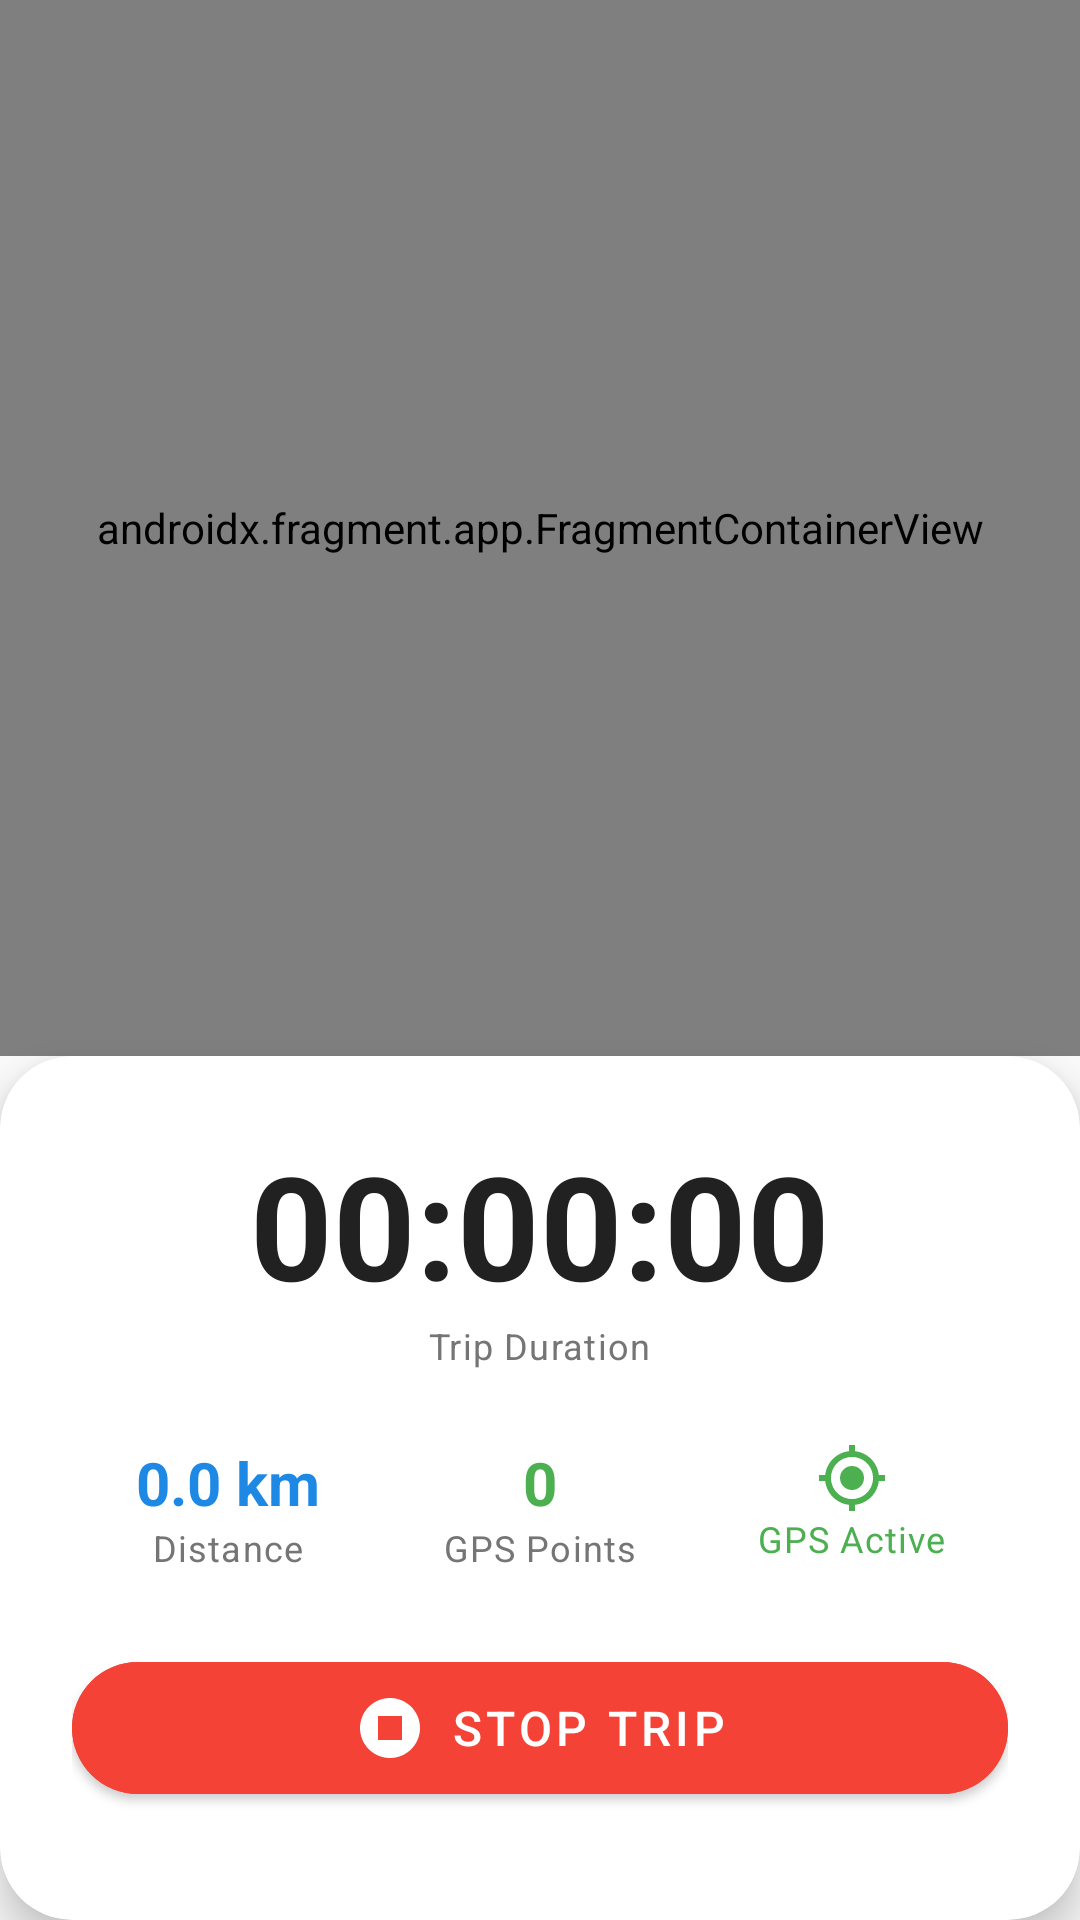

Named icons in this screenshot (1080px x 1920px) and their centers, point (x, y):
GPS Status: point (852, 1478)
